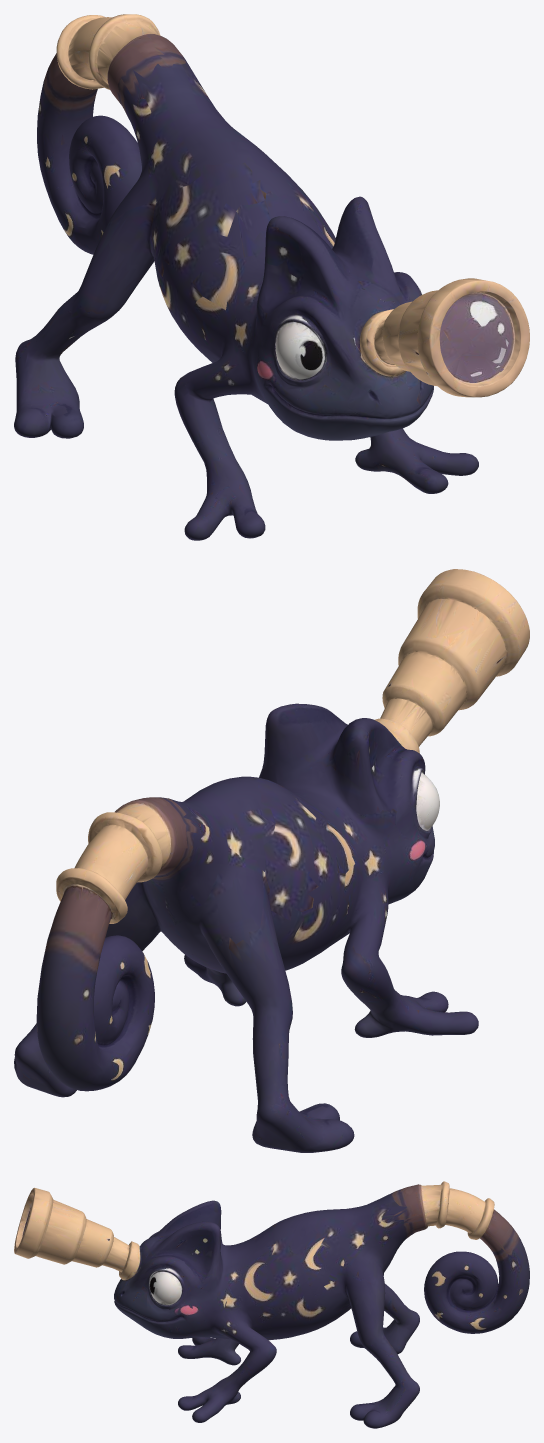
3 renders of one model, top to bottom at view 1: azimuth 30°, elevation 25°; view 2: azimuth 150°, elevation 25°; view 3: azimuth 270°, elevation 25°, orthographic. The views are drawn at different scales.
Parts seen in each view (by area): view 1: Mesh_0; view 2: Mesh_0; view 3: Mesh_0.
Part boxes in pixels (x1,y1,x2,y2): Mesh_0: (14,14,529,540); Mesh_0: (14,569,529,1152); Mesh_0: (14,1181,529,1428).
Size of the model in its own units: 0.839 by 0.8042 by 1.9.
Materials: 1 (1 with a texture image).
